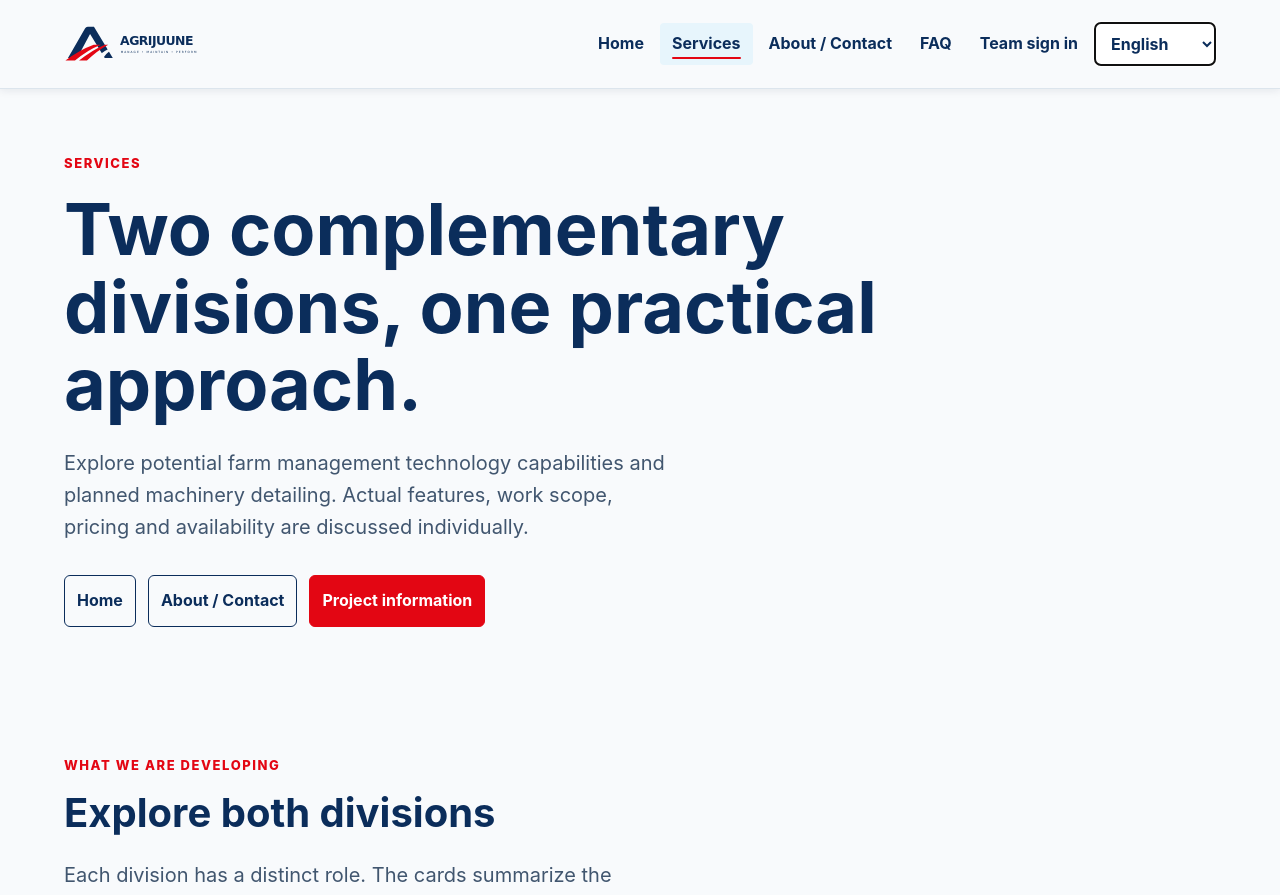
it: public application shell › switches language while preserving the route and updating page metadata
Later steps or results of the test are not shown.
Select "Afrikaans" in the dropdown named "Language". click: (1155, 44)
box: [1094,22,1216,66]
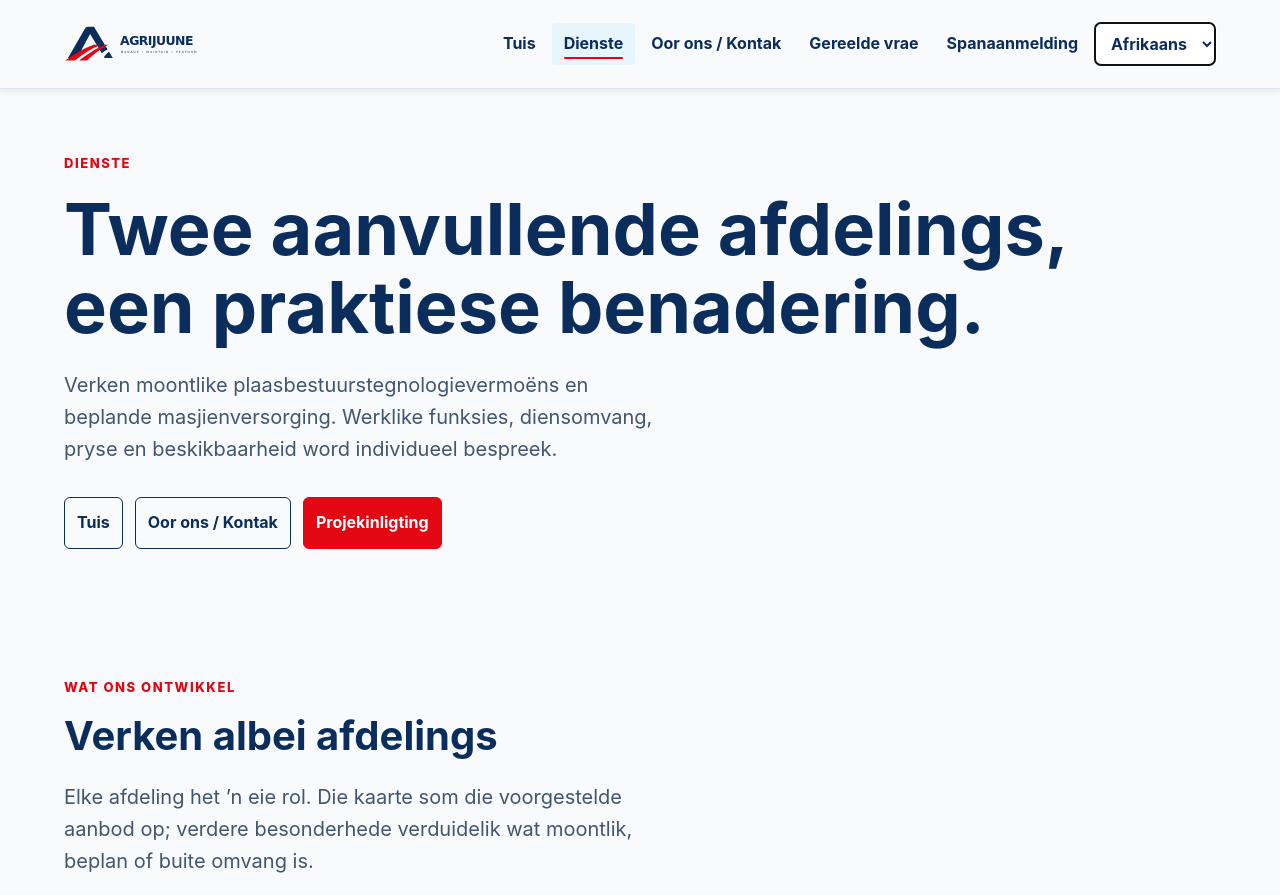
Expected: the heading "Twee aanvullende afdelings, een praktiese benadering." is shown, [64,190,1132,345]
